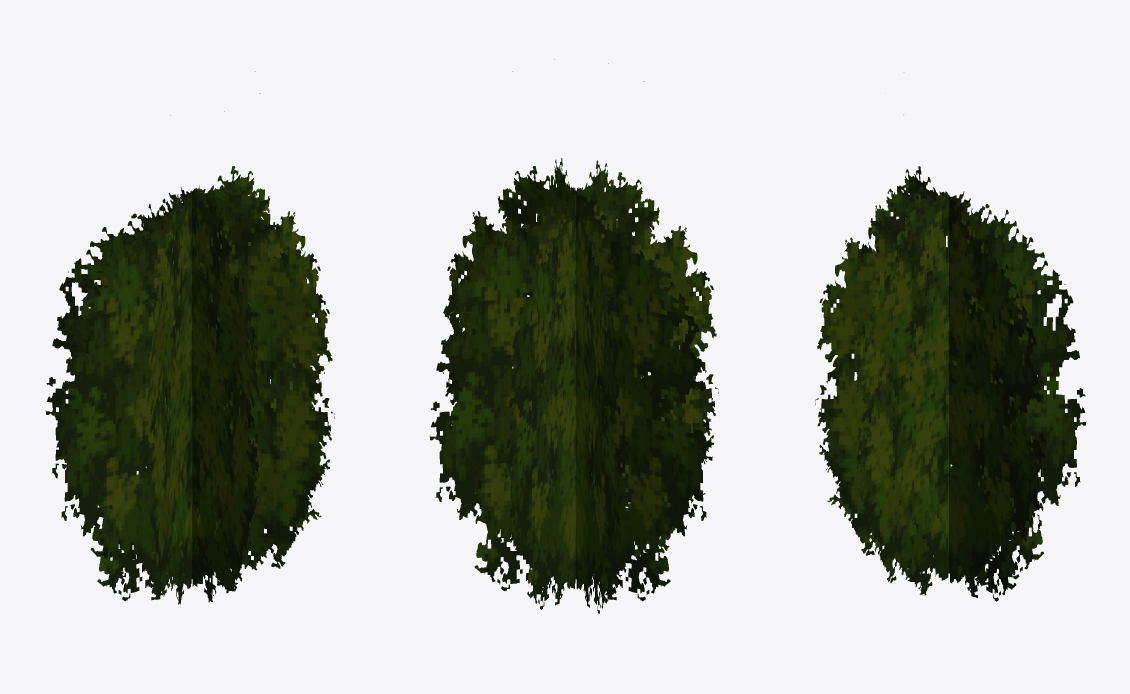
Rendered from MediumBush.fbx.
The picture shows the model from 3 angles, left to right: view 1: azimuth 30°, elevation 25°; view 2: azimuth 150°, elevation 25°; view 3: azimuth 270°, elevation 25°; orthographic projection. The views are drawn at different scales.
Visible parts, largest first — view 1: MediumBush; view 2: MediumBush; view 3: MediumBush.
Part boxes in pixels (x1,y1,x2,y2): MediumBush: (45,71,334,604); MediumBush: (429,59,718,613); MediumBush: (815,166,1086,601).
Size of the model in its own units: 252 by 378 by 225.
Materials: 1 (1 with a texture image).
